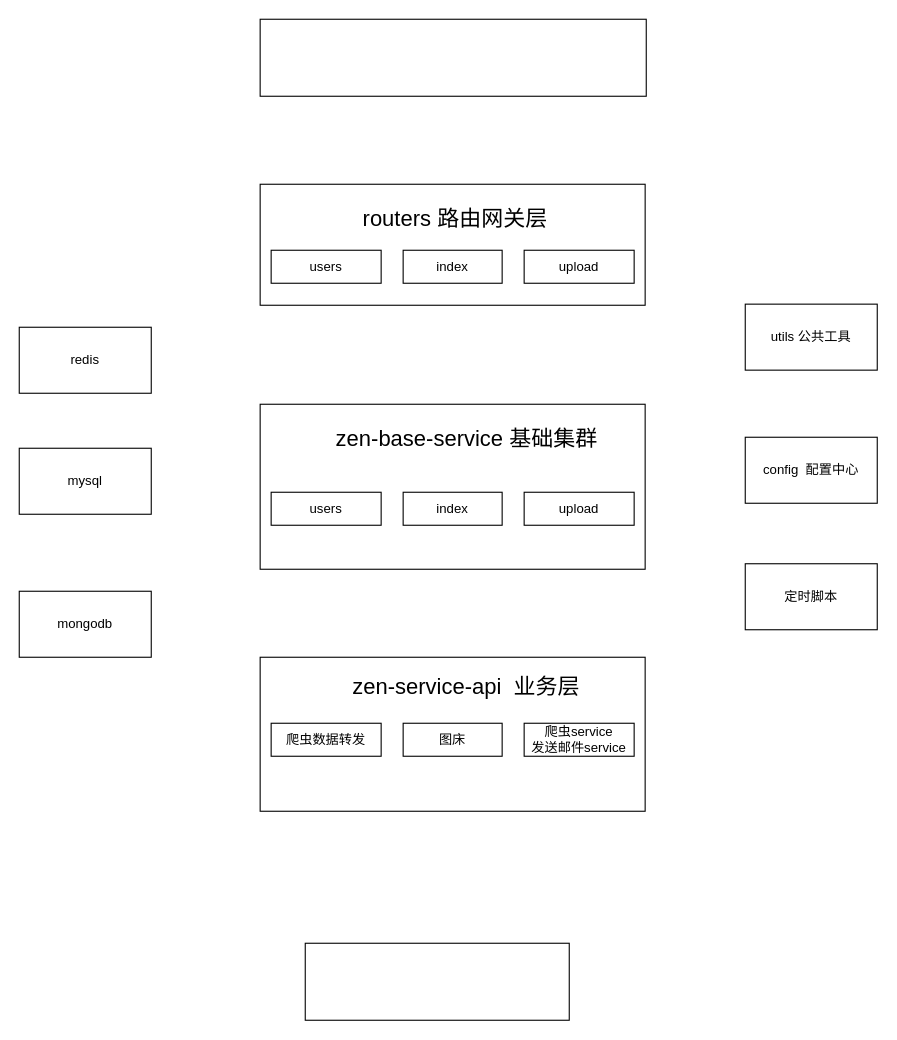
This 897x1040 diagram has some shape labels left out. Here are the shapes that lost their labels. From the top down, the centre of each, then its label:
At pixel 452 57: "前端 web、安卓、ios".
At pixel 436 981: "github actions 部署".
